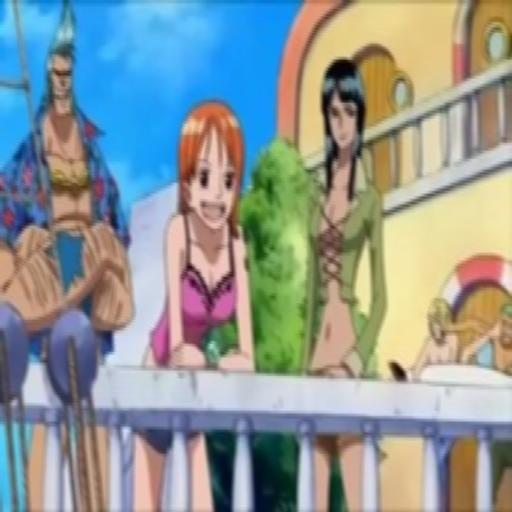Nami: (168, 88, 252, 248)
NicoRobin: (318, 60, 364, 198)
Zoro: (495, 295, 512, 348)
sanji: (424, 290, 460, 350)
